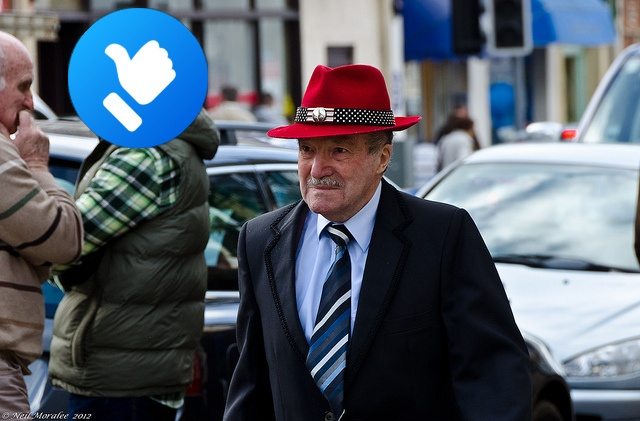like: (68, 8, 208, 148)
